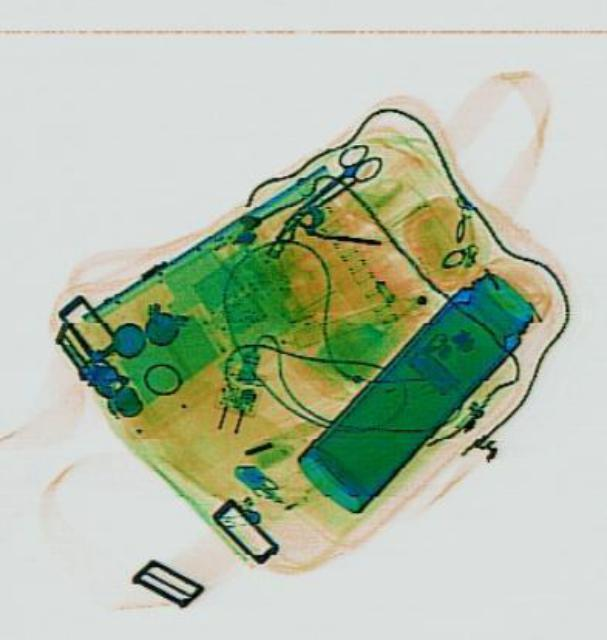Scissors: (281, 134, 384, 226)
